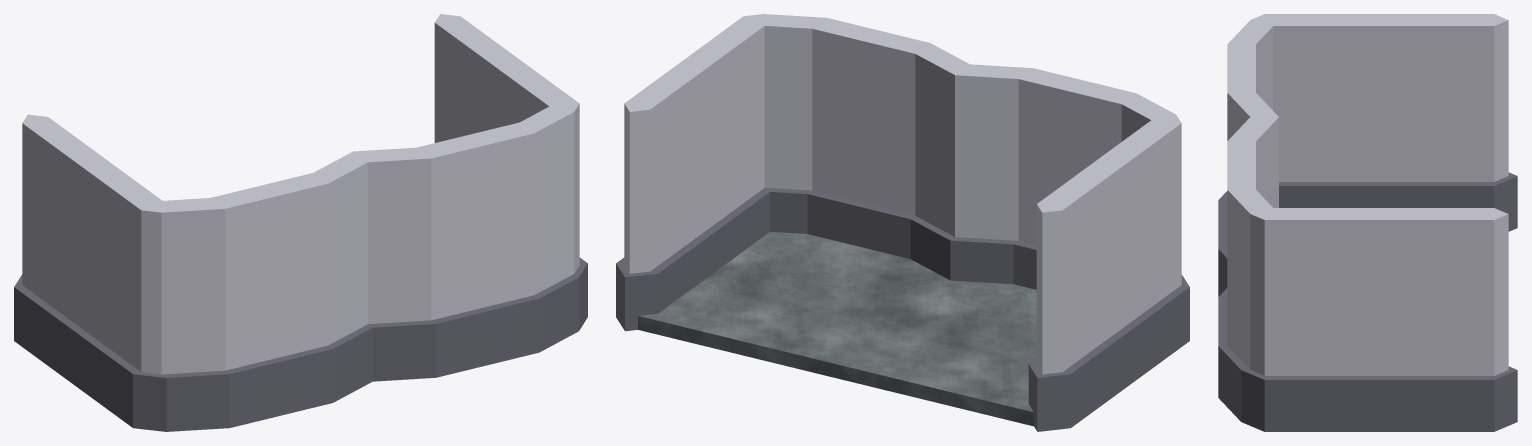
The model's file is hallway_end_02.fbx.
The picture shows the model from 3 angles, left to right: view 1: azimuth 30°, elevation 25°; view 2: azimuth 150°, elevation 25°; view 3: azimuth 270°, elevation 25°; orthographic projection. The views are drawn at different scales.
Visible parts, largest first — view 1: wall_03_80, wall_03_79, wall_01_82, wall_01_83; view 2: floor_04_76, wall_03_79, wall_01_82, wall_01_83, wall_03_80; view 3: wall_01_83, wall_01_82, wall_03_79, wall_03_80.
Boxes of the visible parts, bbox=[...] form: wall_03_80: bbox=[133, 151, 372, 431]; wall_03_79: bbox=[348, 101, 586, 381]; wall_01_82: bbox=[14, 114, 168, 431]; wall_01_83: bbox=[434, 14, 587, 330]; floor_04_76: bbox=[638, 231, 1036, 426]; wall_03_79: bbox=[743, 14, 974, 279]; wall_01_82: bbox=[1028, 114, 1189, 431]; wall_01_83: bbox=[616, 14, 774, 331]; wall_03_80: bbox=[945, 64, 1189, 289]; wall_01_83: bbox=[1243, 208, 1517, 431]; wall_01_82: bbox=[1252, 14, 1517, 231]; wall_03_79: bbox=[1218, 111, 1278, 431]; wall_03_80: bbox=[1218, 14, 1281, 296].
Size of the model in its own units: 22.05 by 10 by 13.05.
